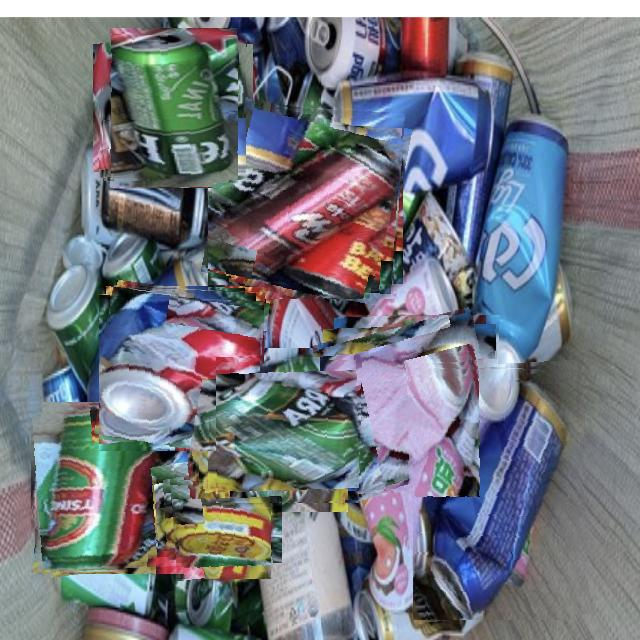recyclable: (413, 362, 587, 620), (208, 103, 405, 299), (320, 315, 500, 495), (31, 403, 203, 573), (100, 285, 266, 451), (100, 36, 247, 182), (216, 357, 362, 503), (170, 479, 271, 579)
